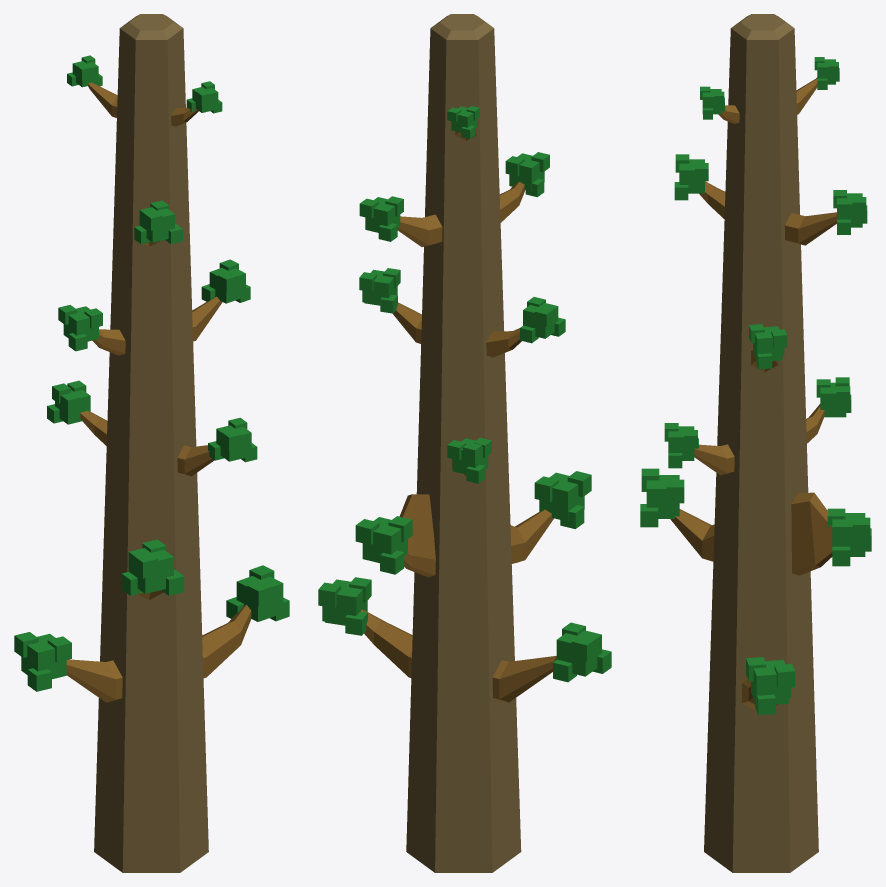
File: Tree 1.fbx
3 renders of one model, left to right at view 1: azimuth 30°, elevation 25°; view 2: azimuth 150°, elevation 25°; view 3: azimuth 270°, elevation 25°, orthographic.
Visible parts, largest first — view 1: Cylinder.001; view 2: Cylinder.001; view 3: Cylinder.001.
Boxes of the visible parts, left/top/right/bottom form: Cylinder.001: left=14, top=14, right=289, bottom=872; Cylinder.001: left=318, top=14, right=611, bottom=872; Cylinder.001: left=640, top=14, right=871, bottom=872.
Size of the model in its own units: 118 by 348 by 87.83.
